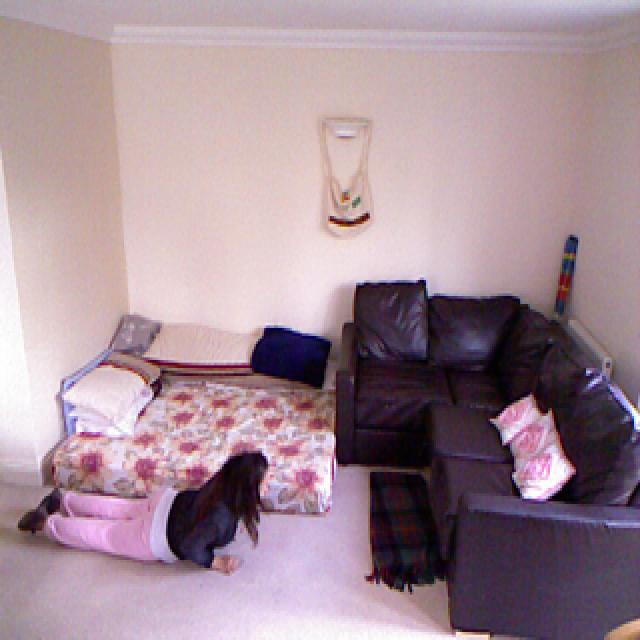lying: (14, 452, 274, 574)
